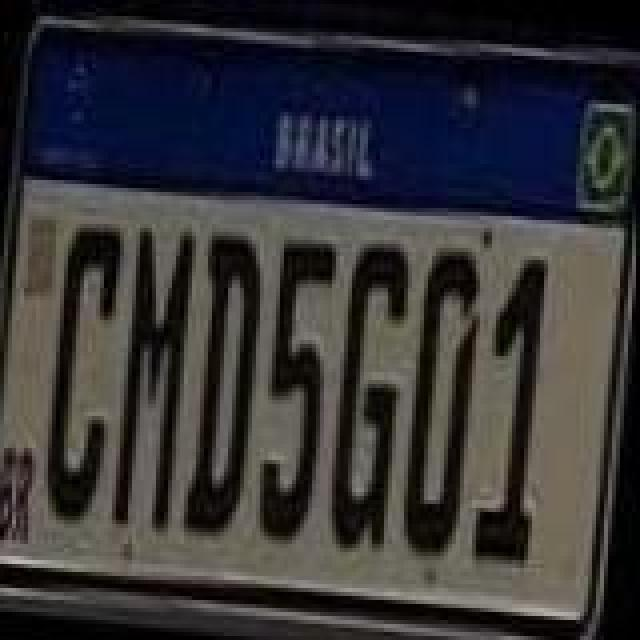1: (466, 250, 566, 574)
5: (246, 228, 346, 552)
C: (34, 216, 134, 528)
D: (394, 240, 494, 564), (178, 228, 278, 544)
G: (320, 234, 424, 554)
M: (106, 220, 206, 532)
